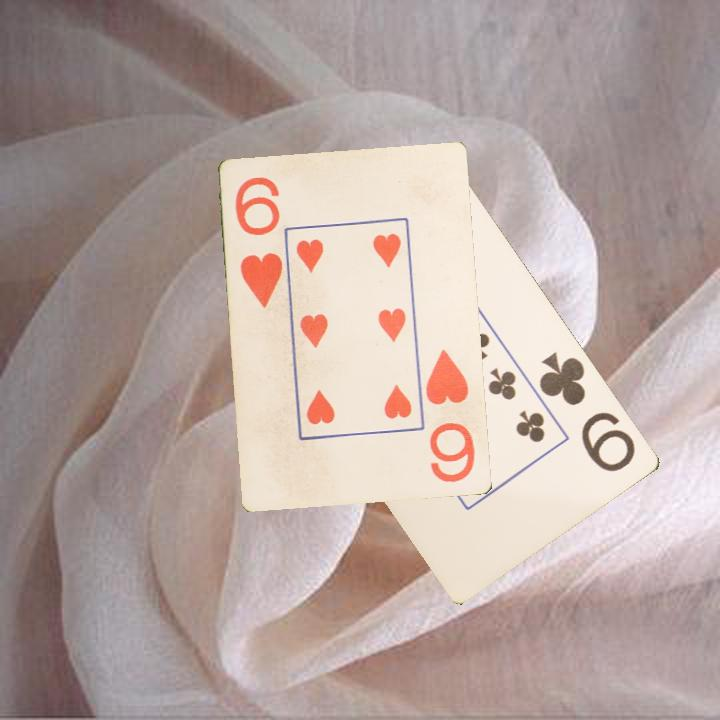6h: (423, 346, 481, 486), (232, 173, 287, 311)
9c: (536, 348, 639, 475)
